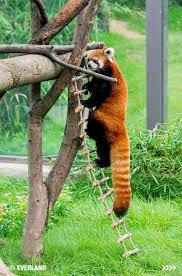redPanda: (76, 35, 143, 226)
